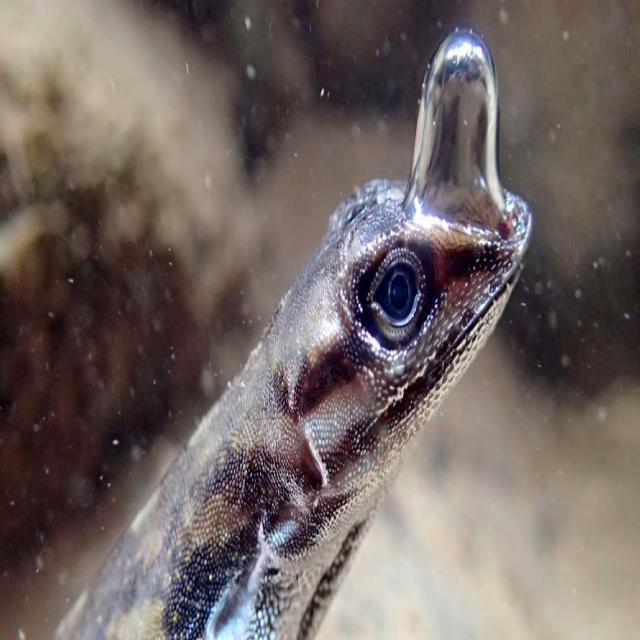lizard: (56, 29, 533, 639)
